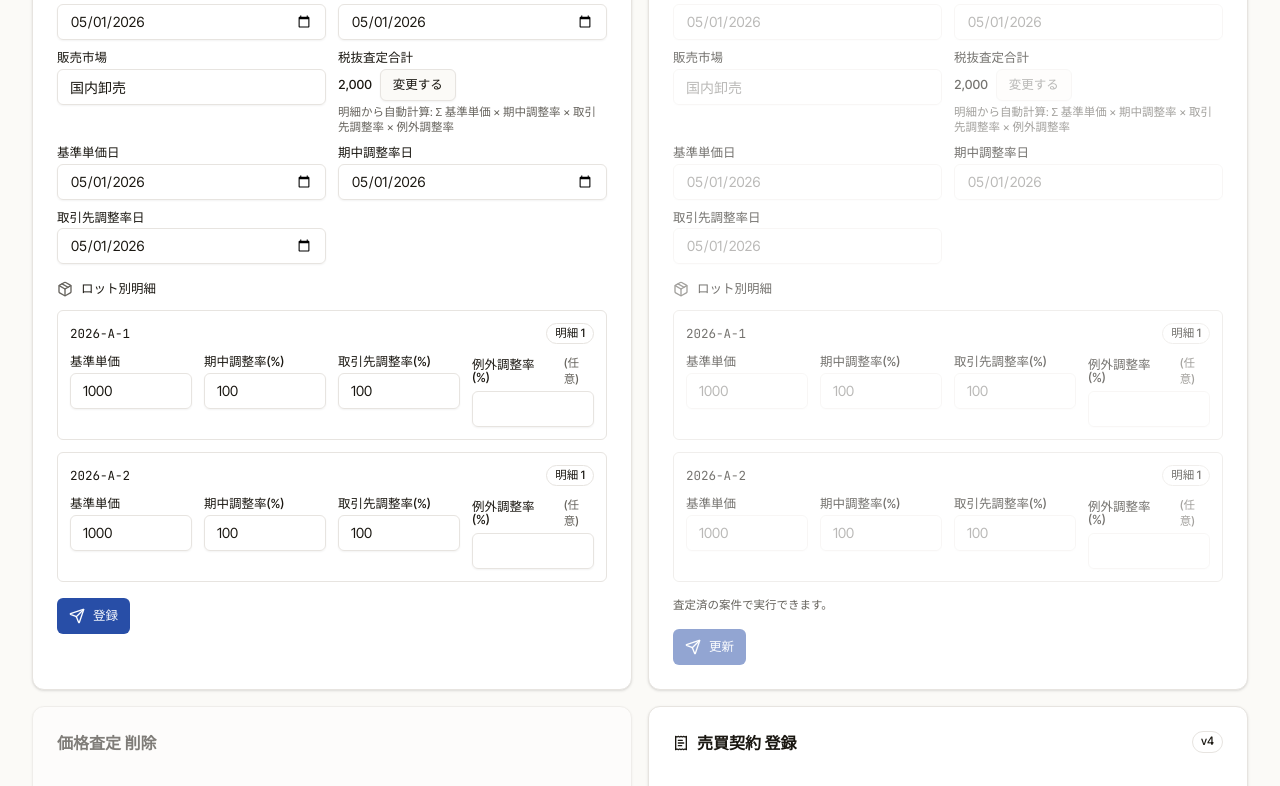
it: <SalesCaseDetailPage> (FE-PAGE-SALES-DETAIL-* / FE-REQ-SALES-*) › FE-PAGE-SALES-DETAIL-APPRAISAL-001: 査定合計が page 上で wire-up され、単価変更で即再計算される
The width and height of the screenshot is (1280, 786).
(page scrolled)
Expected: the 1st text "2,000" is shown, [338,76,372,93]
Replace the text in the 1st number field labelled "基準単価" with "3000" at [131, 391], box [70,373,192,409]
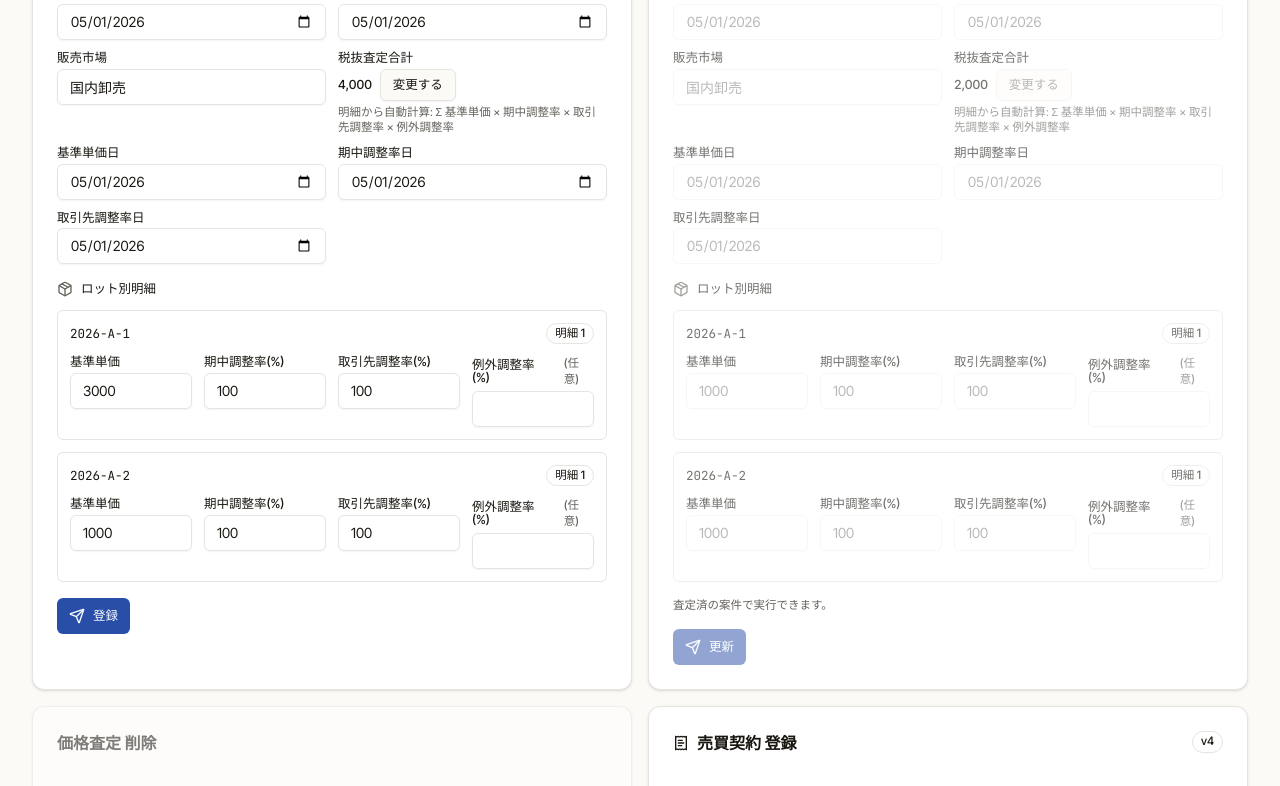
Result: the text "4,000" is shown at [338,76,372,93]
